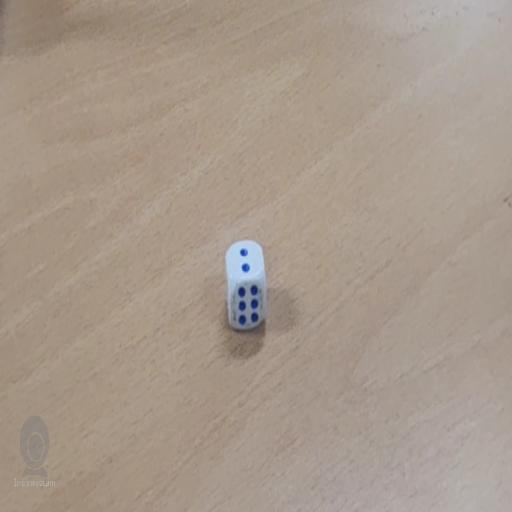dice_2: (225, 239, 268, 332)
